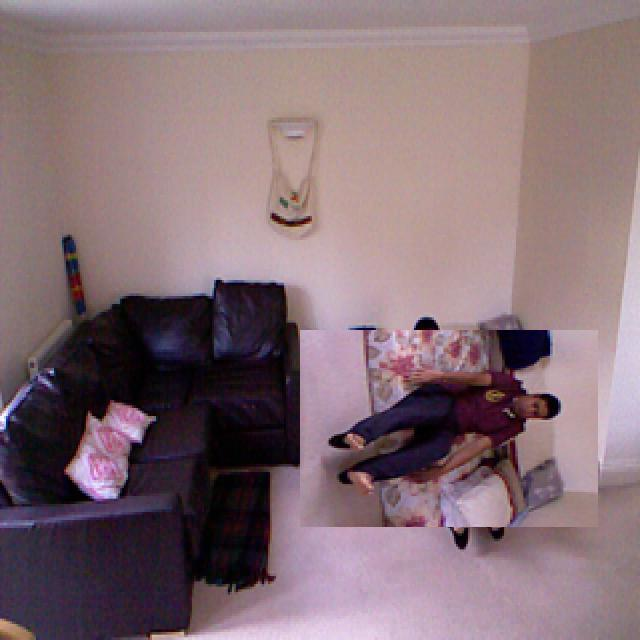NotFall: (315, 336, 574, 510)
